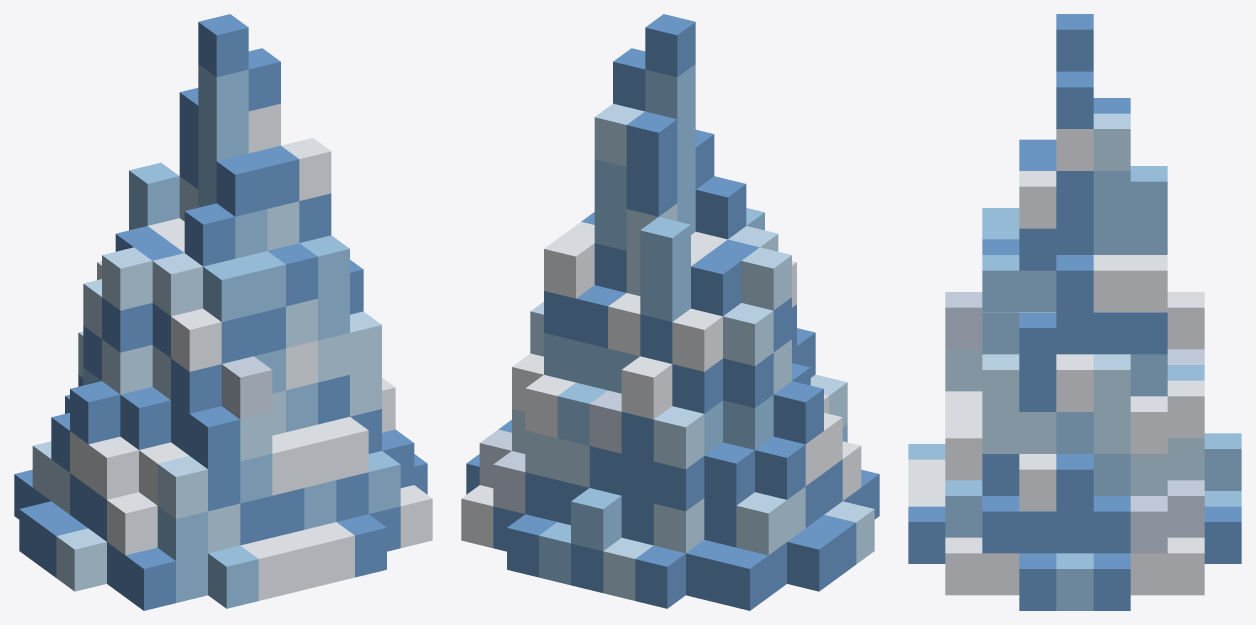
Rendered from IcebergBig.glb.
The picture shows the model from 3 angles, left to right: view 1: azimuth 30°, elevation 25°; view 2: azimuth 150°, elevation 25°; view 3: azimuth 270°, elevation 25°; orthographic projection.
Parts seen in each view (by area): view 1: IcebergBig; view 2: IcebergBig; view 3: IcebergBig.
Boxes of the visible parts, x1=… form: IcebergBig: x1=14, y1=14, x2=432, y2=610; IcebergBig: x1=461, y1=14, x2=879, y2=610; IcebergBig: x1=908, y1=14, x2=1241, y2=610.
Size of the model in its own units: 22 by 30 by 18.
Materials: 1 (1 with a texture image).
